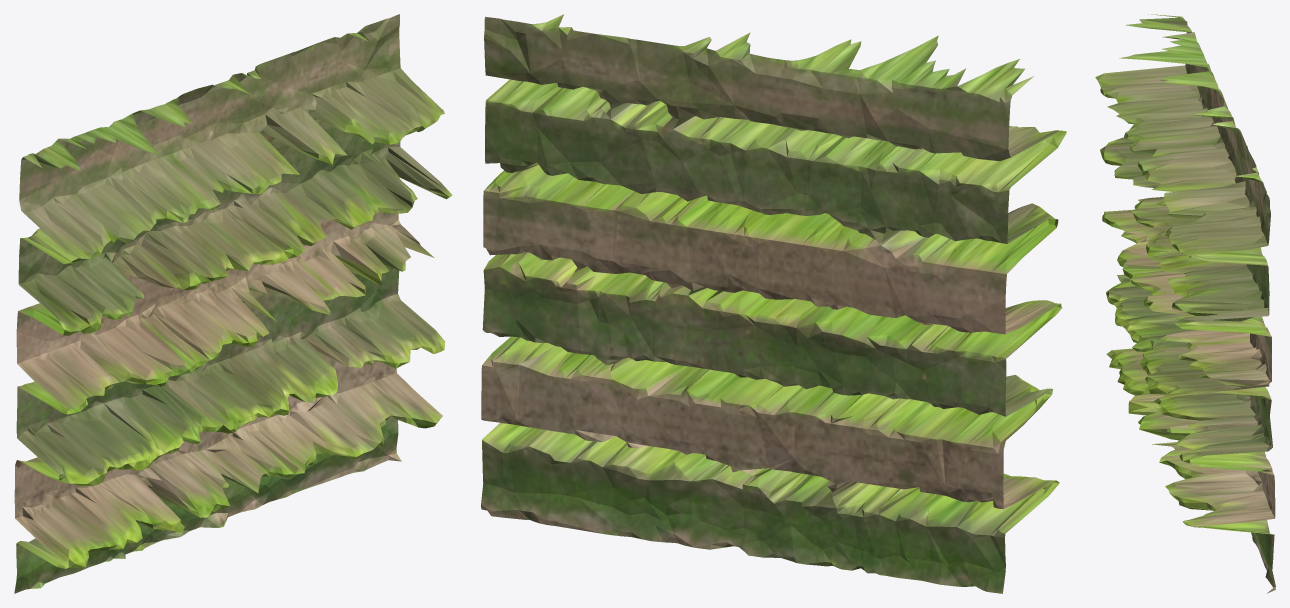
File: map_160_20.obj
3 views of the same model, side by side, from view 1: azimuth 30°, elevation 25°; view 2: azimuth 150°, elevation 25°; view 3: azimuth 270°, elevation 25° (orthographic). The views are drawn at different scales.
Visible parts, largest first — view 1: grp1; view 2: grp1; view 3: grp1.
Part boxes in pixels (left/top/right/bottom): grp1: left=14, top=14, right=452, bottom=593; grp1: left=481, top=14, right=1066, bottom=593; grp1: left=1095, top=14, right=1275, bottom=593.
Bounding box in the file's own units: 10 × 10 × 4.14.
1 material, 1 textured.
